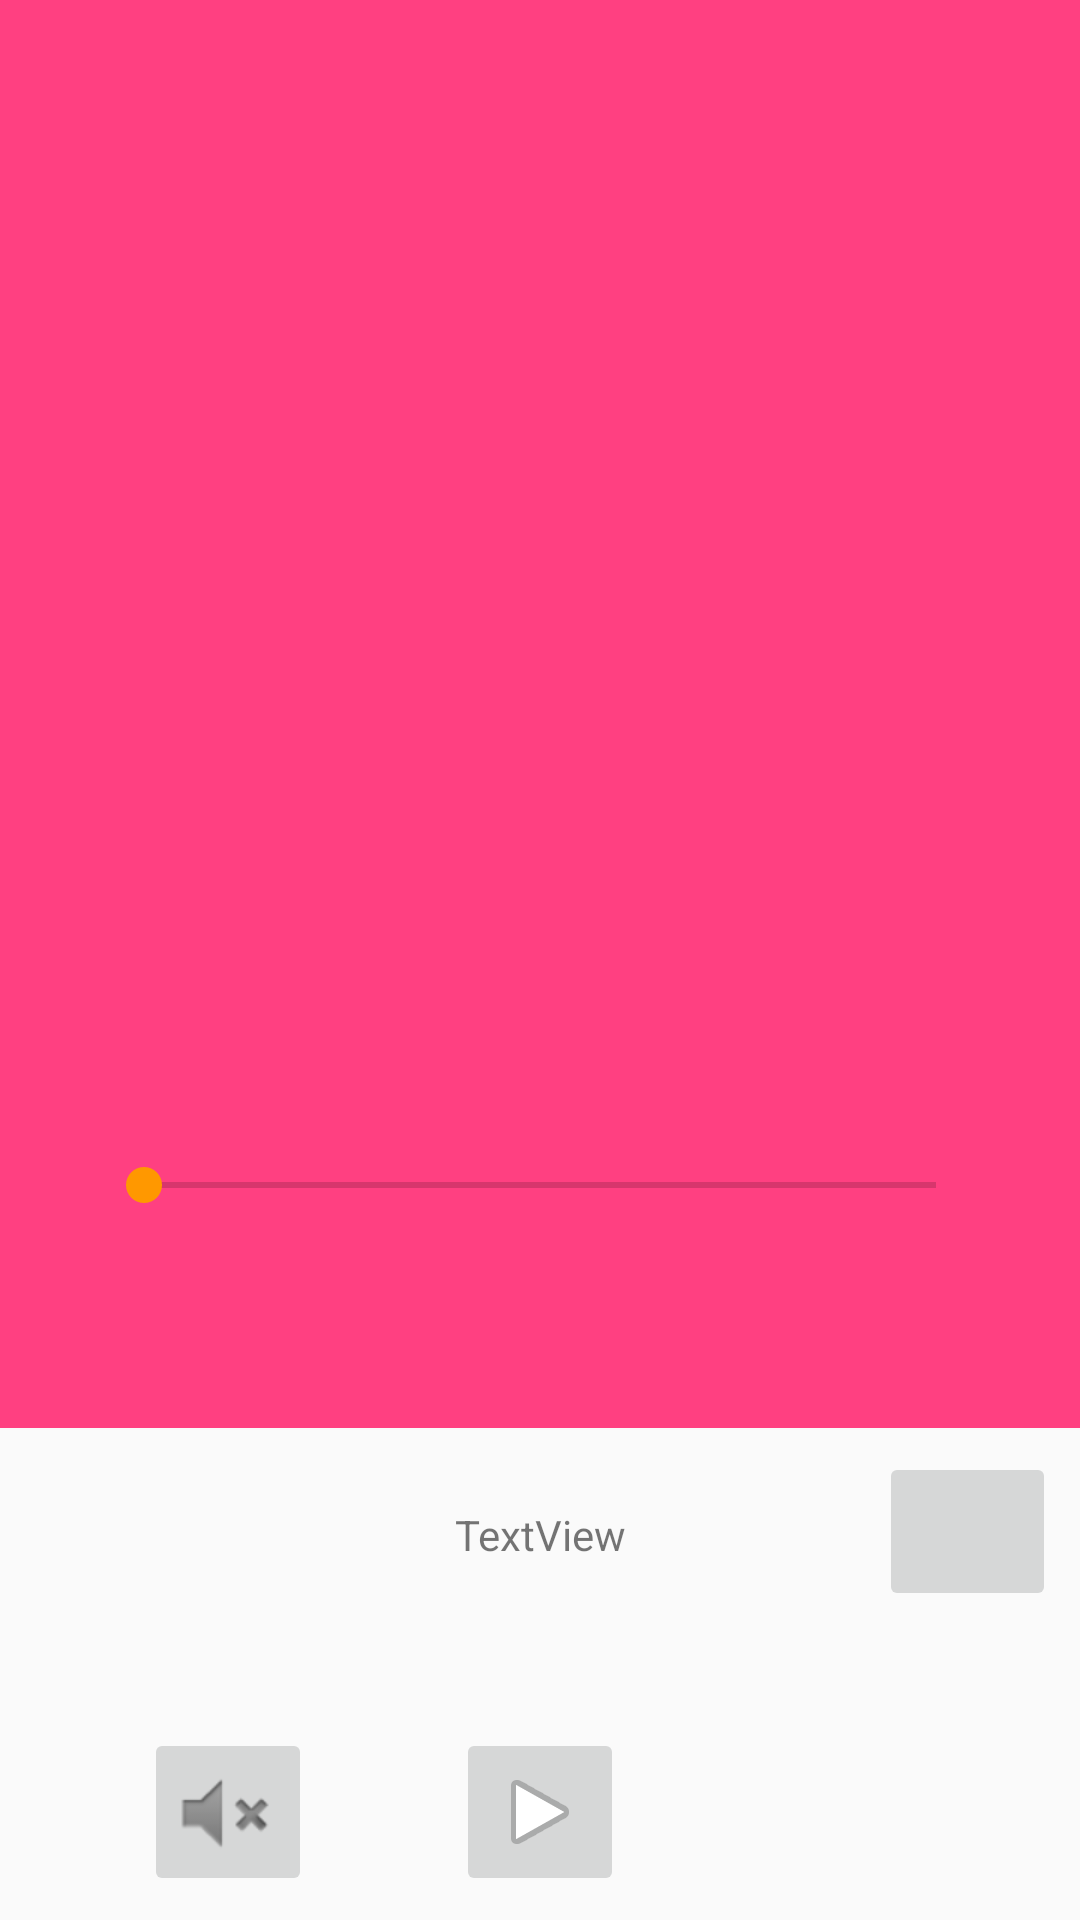

Locate icon controls on the screen. Image size 1080 × 1920, boxes as (x1, y1, x2, y2).
lock silent mode: (156, 1746, 300, 1878)
play: (468, 1746, 612, 1878)
